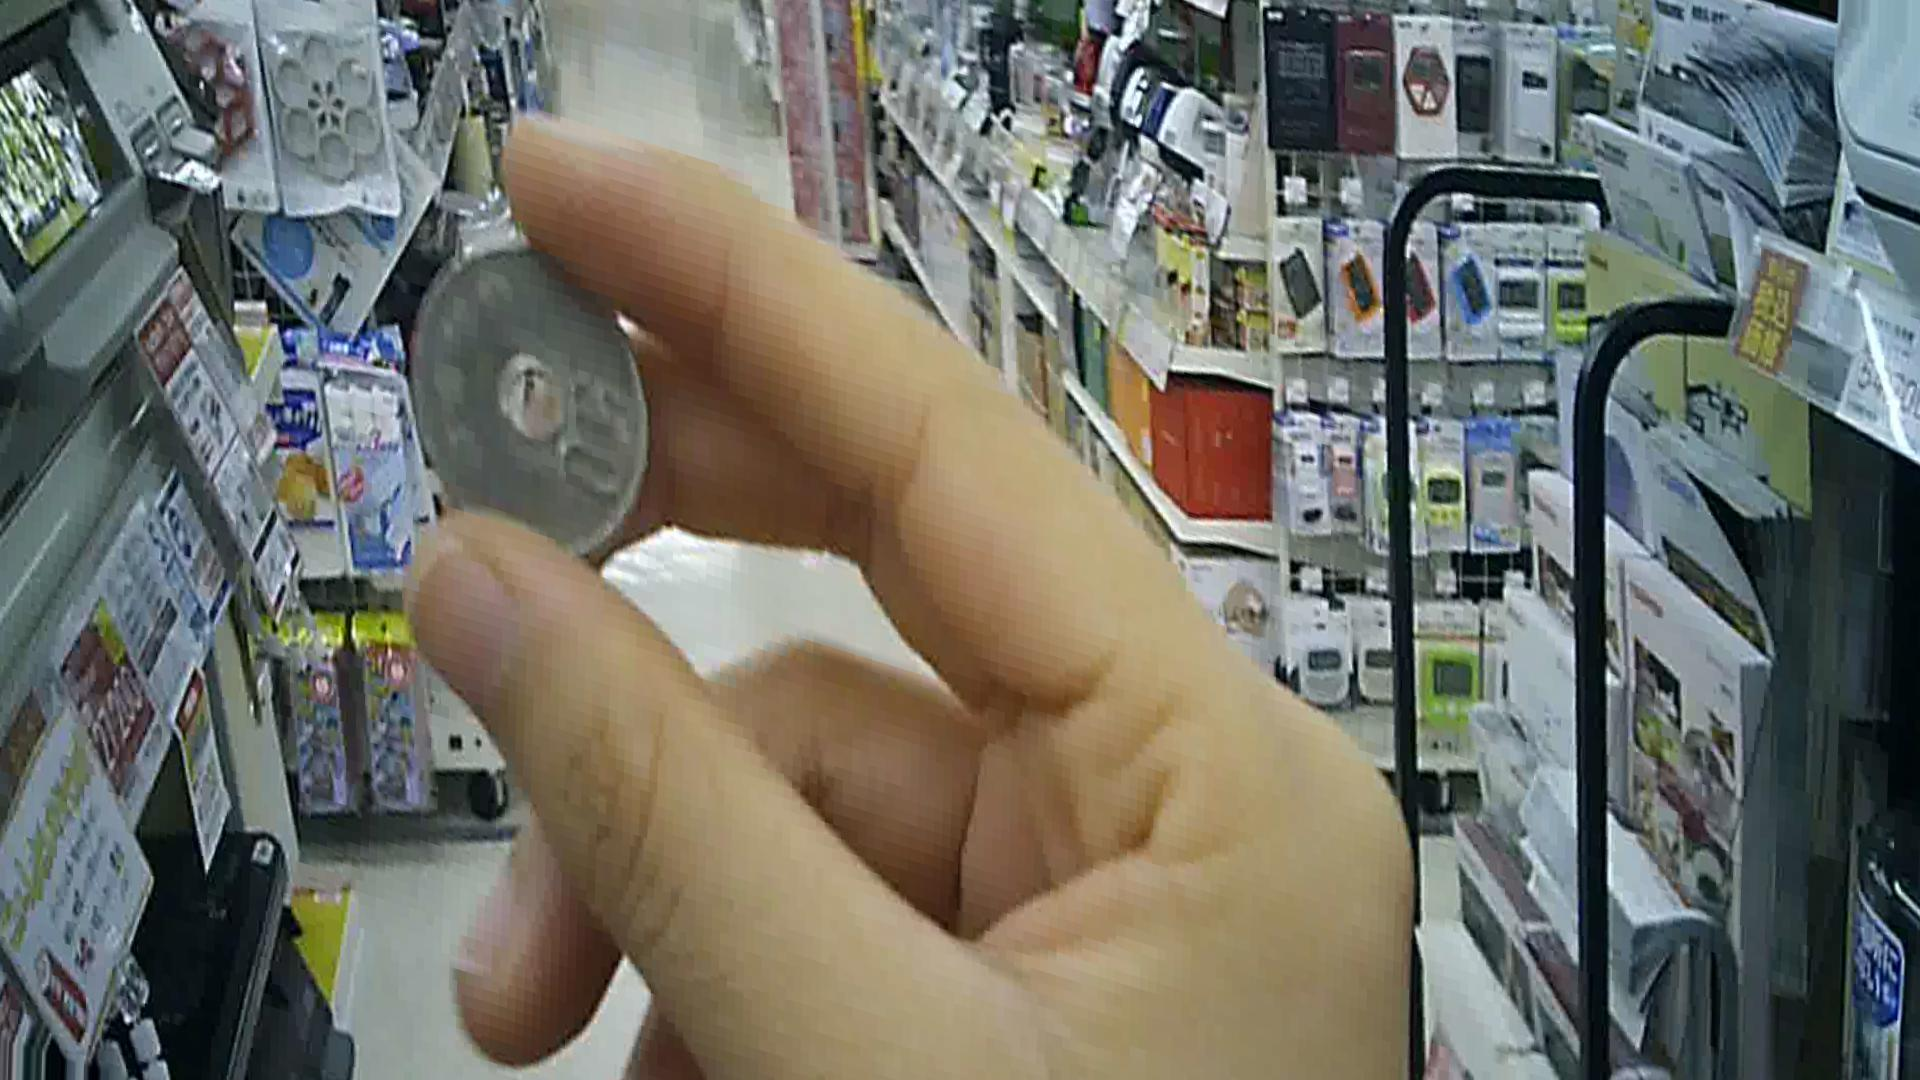50 Yen: (409, 252, 634, 553)
